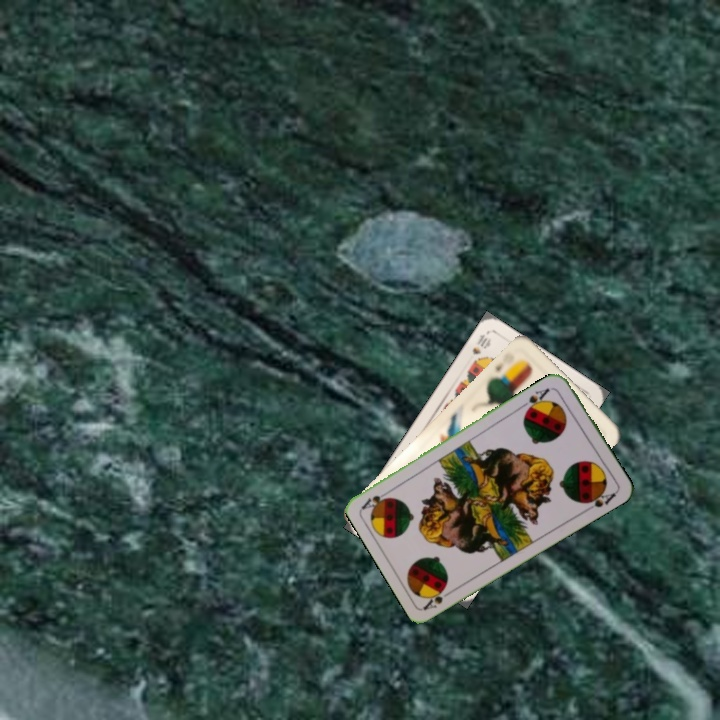EO: (491, 349, 517, 382)
S10: (468, 329, 494, 358)
SA: (420, 582, 457, 612), (519, 384, 552, 414)
